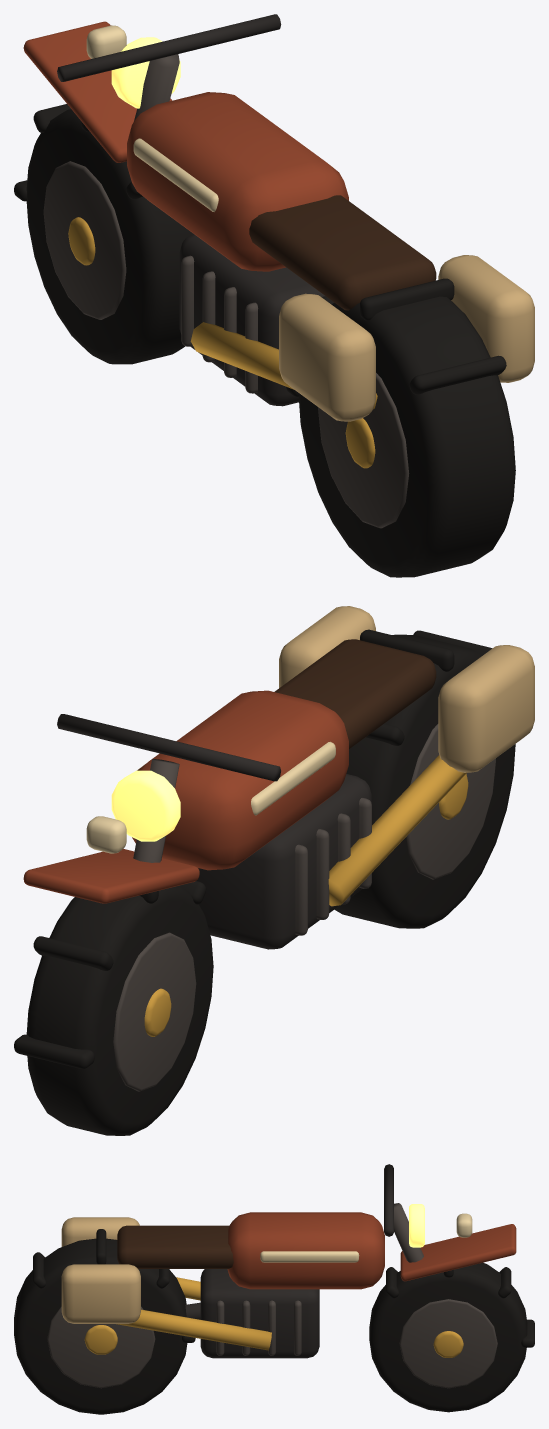
Rendered from bike2.glb.
3 views of the same model, one above another, from view 1: azimuth 30°, elevation 25°; view 2: azimuth 150°, elevation 25°; view 3: azimuth 270°, elevation 25° (orthographic). The views are drawn at different scales.
Parts seen in each view (by area): view 1: wb_tire, tank, wf_tire, seat, saddlebag-1, wf_rim, wb_rim, engine, saddlebag1, fender, handle, exhaust-1 (+12 smaller); view 2: wf_tire, tank, wb_tire, engine, saddlebag-1, seat, wf_rim, fender, exhaust-1, wb_rim, lamp, handle (+13 smaller); view 3: wb_tire, wf_tire, tank, engine, wf_rim, wb_rim, seat, saddlebag1, fender, exhaust1, saddlebag-1, tankstripe (+15 smaller).
Boxes of the visible parts, x1,y1,x2,y2 form: wb_tire: [298, 296, 515, 577]; tank: [127, 92, 348, 271]; wf_tire: [26, 109, 193, 364]; seat: [249, 195, 436, 310]; saddlebag-1: [279, 293, 375, 421]; wf_rim: [43, 161, 126, 319]; wb_rim: [318, 373, 409, 528]; engine: [179, 234, 325, 406]; saddlebag1: [438, 255, 534, 382]; fender: [23, 21, 171, 162]; handle: [57, 14, 281, 81]; exhaust-1: [190, 322, 377, 409]; wf_tire: [26, 885, 213, 1135]; tank: [132, 690, 348, 870]; wb_tire: [334, 634, 515, 928]; engine: [196, 774, 371, 949]; saddlebag-1: [438, 645, 534, 772]; seat: [274, 639, 436, 748]; wf_rim: [113, 932, 196, 1091]; fender: [23, 849, 199, 903]; exhaust-1: [328, 755, 466, 906]; wb_rim: [406, 724, 495, 879]; lamp: [111, 770, 180, 841]; handle: [57, 714, 280, 781]; wb_tire: [14, 1238, 187, 1414]; wf_tire: [369, 1262, 527, 1412]; tank: [227, 1212, 384, 1289]; engine: [200, 1269, 319, 1358]; wf_rim: [399, 1299, 497, 1388]; wb_rim: [47, 1306, 155, 1388]; seat: [117, 1225, 233, 1268]; saddlebag1: [61, 1264, 140, 1323]; fender: [400, 1224, 516, 1281]; exhaust1: [116, 1309, 271, 1350]; saddlebag-1: [61, 1217, 139, 1246]; tankstripe: [260, 1251, 359, 1262].
Size of the model in its own units: 0.76 by 1.17 by 2.62.
